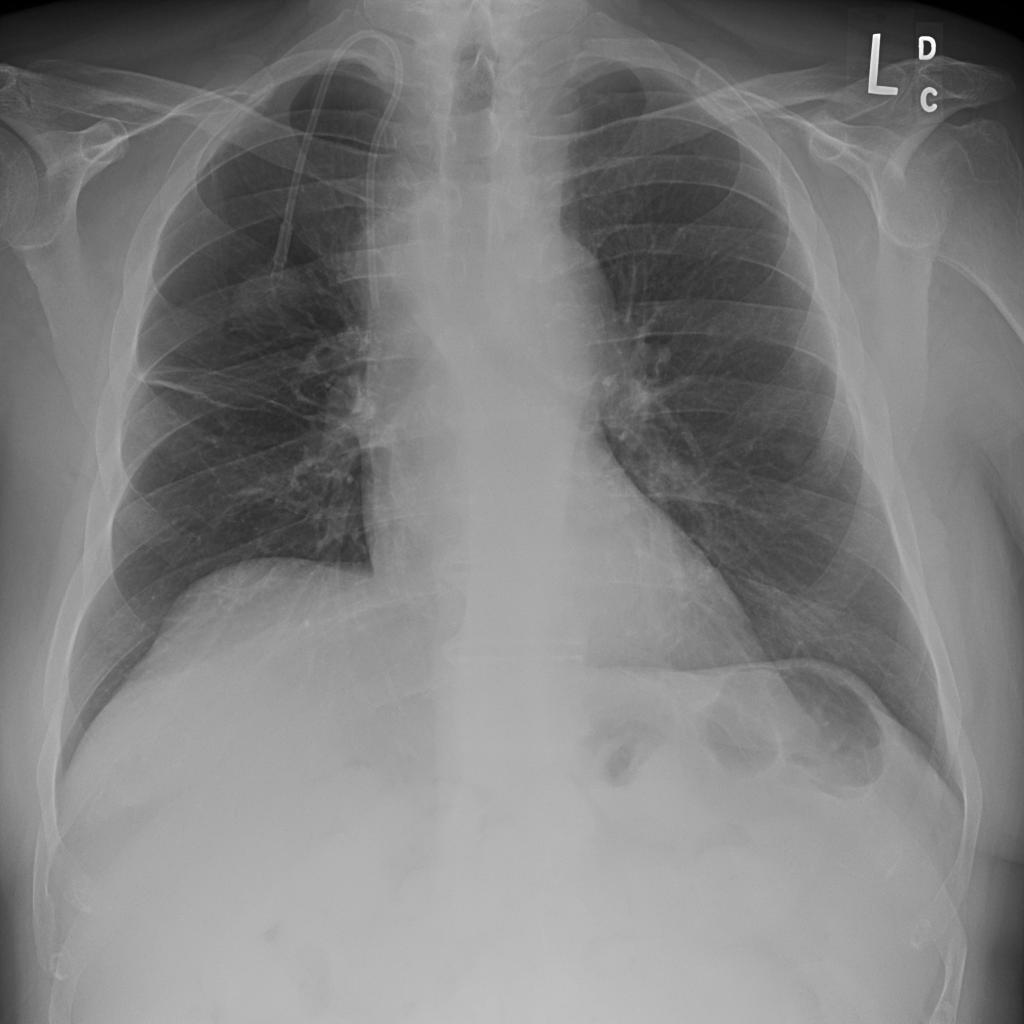Nodule: (379, 206, 429, 251), (292, 178, 343, 221)
